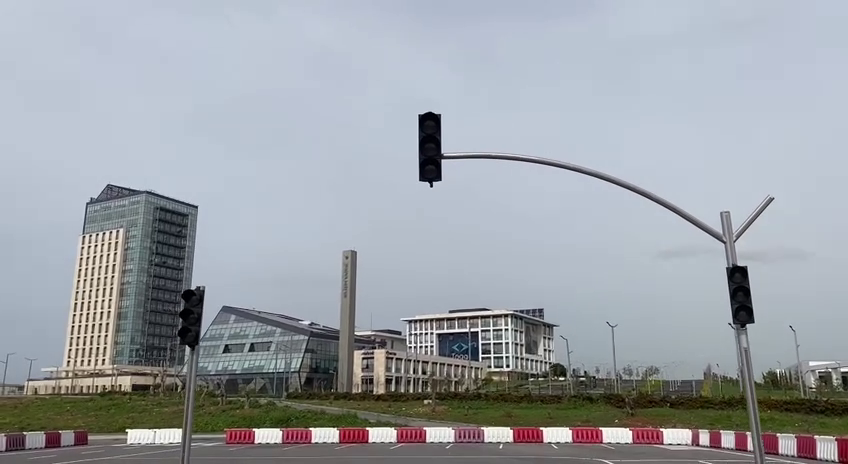trafficLight: (412, 107, 449, 191), (722, 258, 759, 330), (175, 282, 207, 351)
